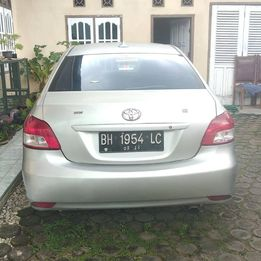plate: (99, 129, 165, 155)
